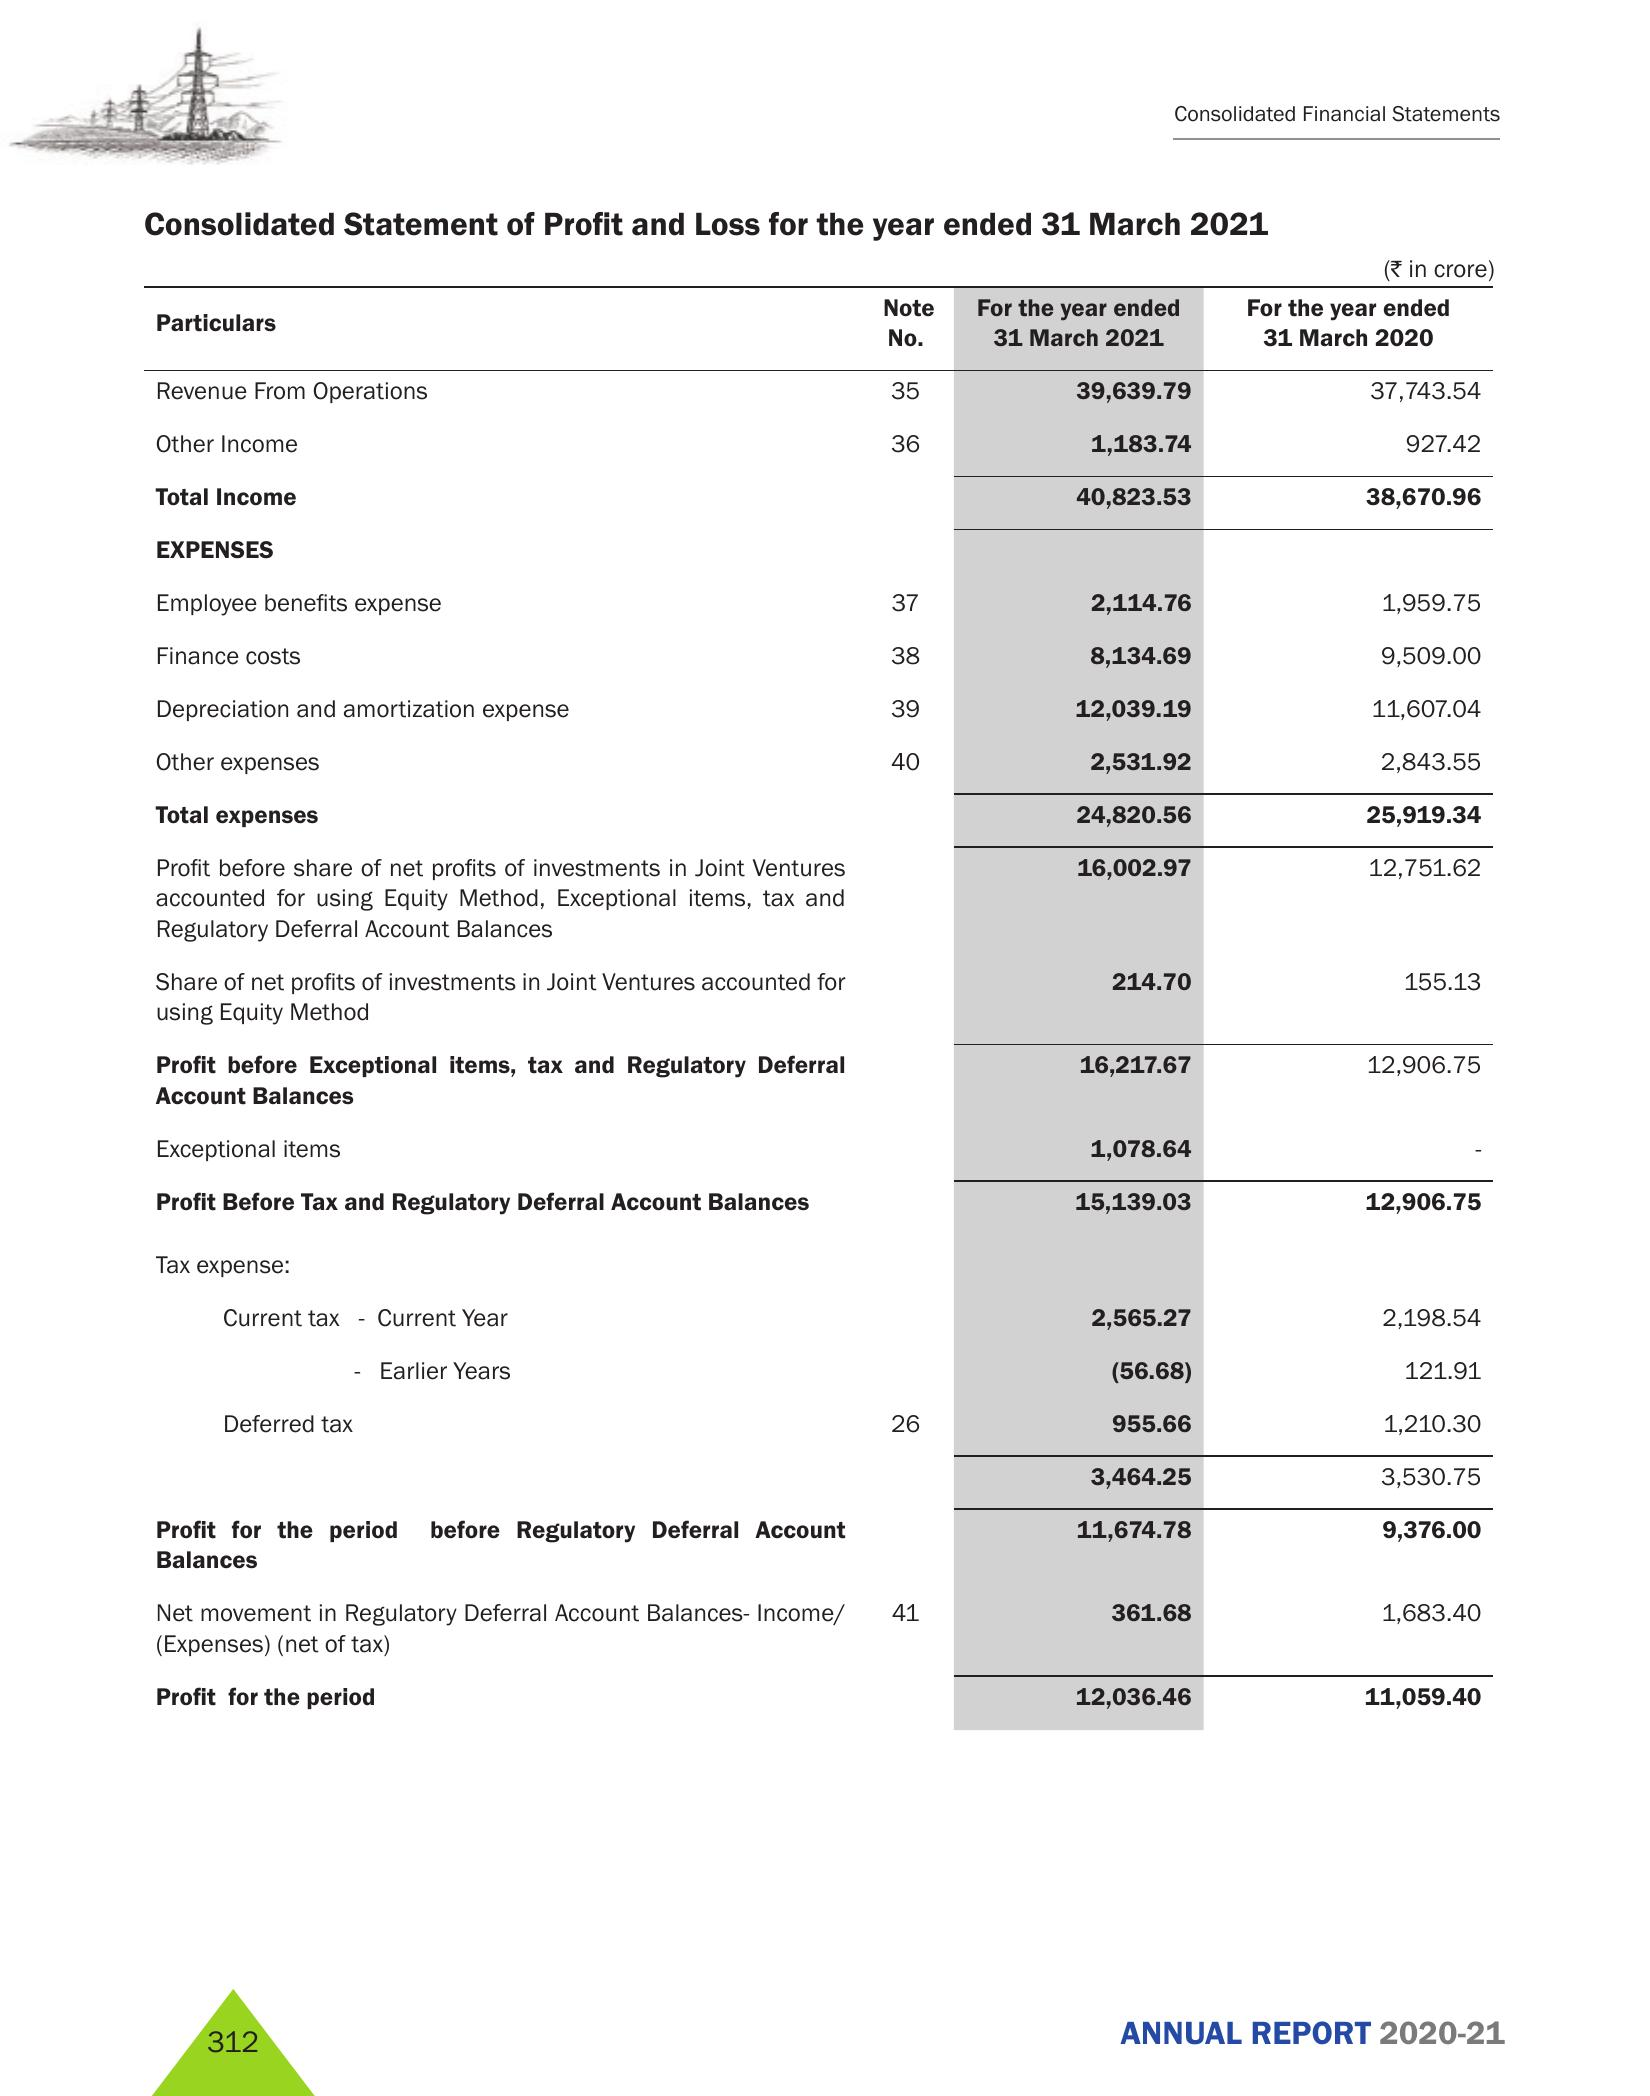Footer: (0, 1956, 1650, 2096)
Header: (0, 0, 1650, 184)
Table: (122, 282, 1492, 1735)
